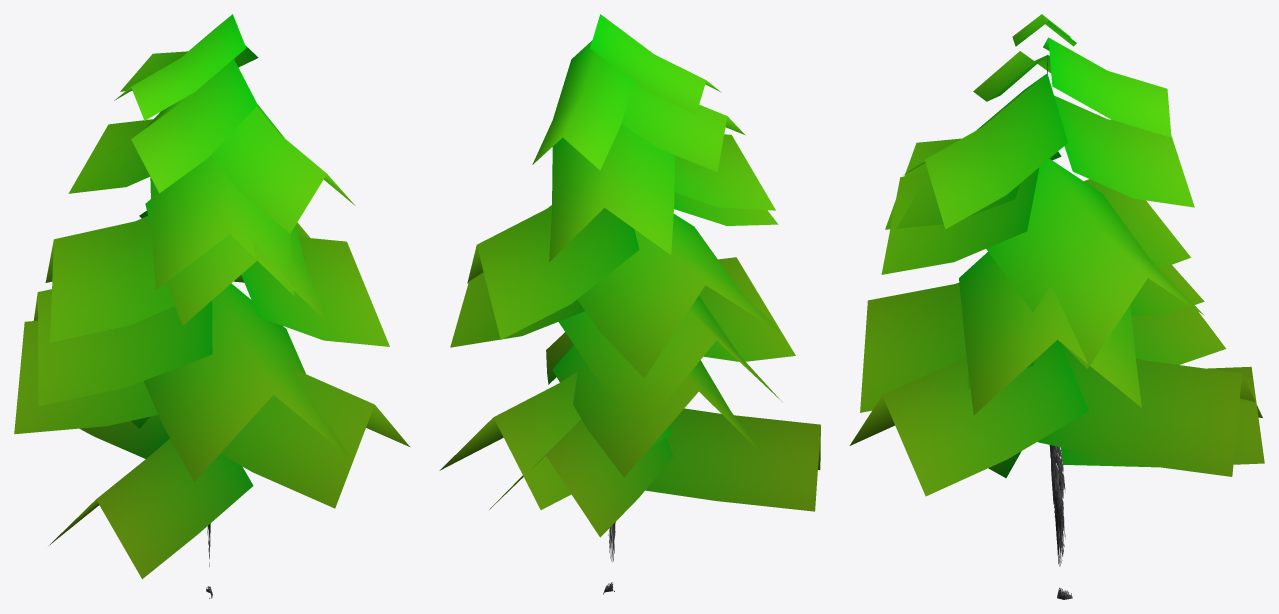
The model's file is tree 4.fbx.
3 renders of one model, left to right at view 1: azimuth 30°, elevation 25°; view 2: azimuth 150°, elevation 25°; view 3: azimuth 270°, elevation 25°, orthographic. The views are drawn at different scales.
Parts seen in each view (by area): view 1: Tree_LOD0; view 2: Tree_LOD0; view 3: Tree_LOD0.
Part boxes in pixels (x1,y1,x2,y2): Tree_LOD0: (14,14,409,598); Tree_LOD0: (439,14,820,594); Tree_LOD0: (849,14,1264,599).
Size of what is drawn, in the model's own units: 416 by 718 by 462.
Materials: 2 (1 with a texture image).
